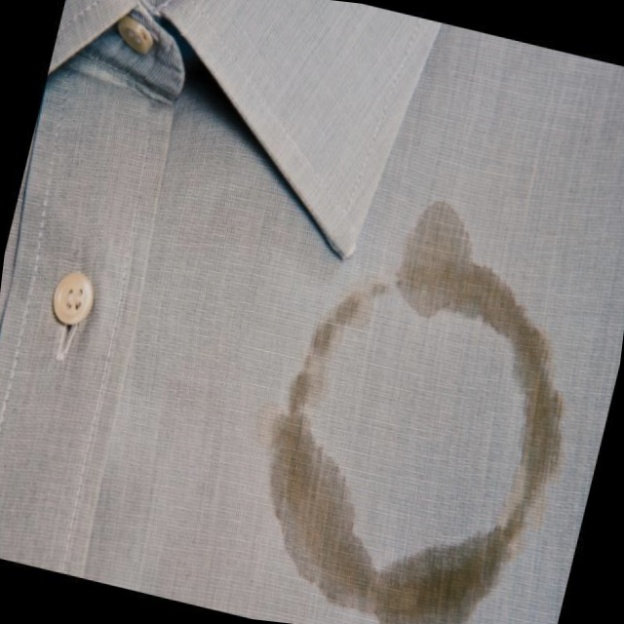coffee: (238, 417, 393, 620), (388, 211, 523, 334), (497, 318, 578, 490), (377, 533, 493, 624)
